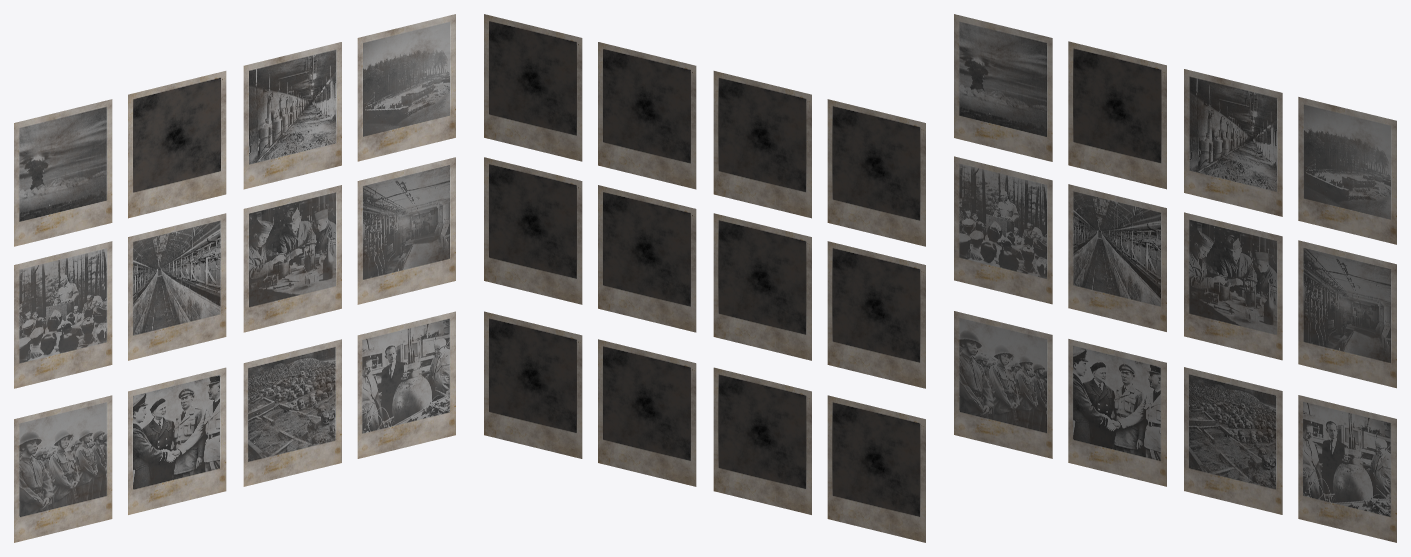
Rendered from old_polaroid_photos.glb.
3 views of the same model, side by side, from view 1: azimuth 30°, elevation 25°; view 2: azimuth 150°, elevation 25°; view 3: azimuth 330°, elevation 25° (orthographic).
Parts seen in each view (by area): view 1: Plane_1, Plane.004_5, Plane.008_9, Plane.002_3, Plane.003_4, Plane.006_7, Plane.007_8, Plane.011_11, Plane.001_2, Plane.010_10, Plane.009_12, Plane.005_6; view 2: Plane_1, Plane.004_5, Plane.008_9, Plane.002_3, Plane.003_4, Plane.006_7, Plane.007_8, Plane.011_11, Plane.001_2, Plane.010_10, Plane.009_12, Plane.005_6; view 3: Plane.009_12, Plane.003_4, Plane.004_5, Plane.006_7, Plane.001_2, Plane.002_3, Plane.008_9, Plane.010_10, Plane.005_6, Plane.011_11, Plane_1, Plane.007_8.
Boxes of the visible parts, x1,y1,x2,y2 form: Plane_1: (14,99,112,246); Plane.004_5: (14,395,112,542); Plane.008_9: (14,241,112,388); Plane.002_3: (243,185,341,332); Plane.003_4: (357,157,455,304); Plane.006_7: (243,339,341,486); Plane.007_8: (357,311,455,458); Plane.011_11: (357,14,455,161); Plane.001_2: (128,213,226,360); Plane.010_10: (243,42,341,189); Plane.009_12: (128,71,226,218); Plane.005_6: (128,367,226,514); Plane_1: (827,99,925,246); Plane.004_5: (827,395,925,542); Plane.008_9: (827,241,925,388); Plane.002_3: (598,185,696,332); Plane.003_4: (484,157,582,304); Plane.006_7: (598,339,696,486); Plane.007_8: (484,311,582,458); Plane.011_11: (484,14,582,161); Plane.001_2: (713,213,811,360); Plane.010_10: (598,42,696,189); Plane.009_12: (713,71,811,218); Plane.005_6: (713,367,811,514); Plane.009_12: (1068,41,1166,189); Plane.003_4: (1298,240,1396,388); Plane.004_5: (954,311,1052,458); Plane.006_7: (1184,367,1282,514); Plane.001_2: (1068,184,1166,331); Plane.002_3: (1184,212,1282,360); Plane.008_9: (954,156,1052,304); Plane.010_10: (1184,69,1282,216); Plane.005_6: (1068,339,1166,486); Plane.011_11: (1298,97,1396,244); Plane_1: (954,14,1052,161); Plane.007_8: (1298,395,1396,542).
Size of the model in its own units: 5.53 by 5.04 by 1.3e-05.
1 material, 1 textured.
